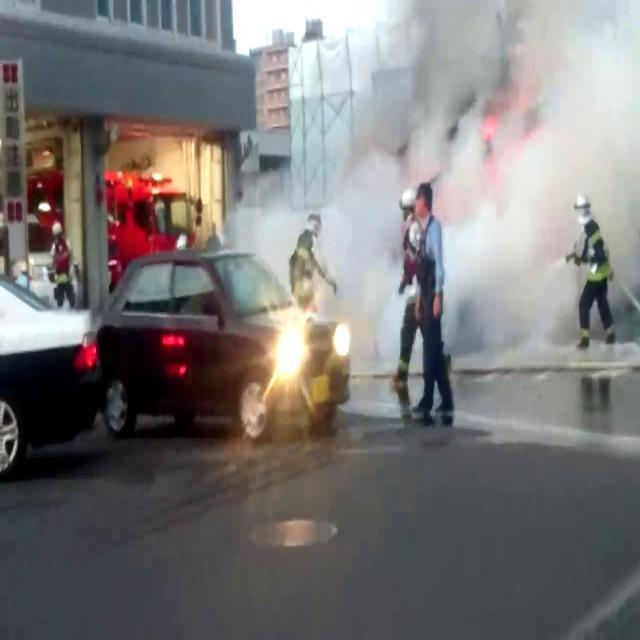Smoke: (334, 11, 640, 386)
